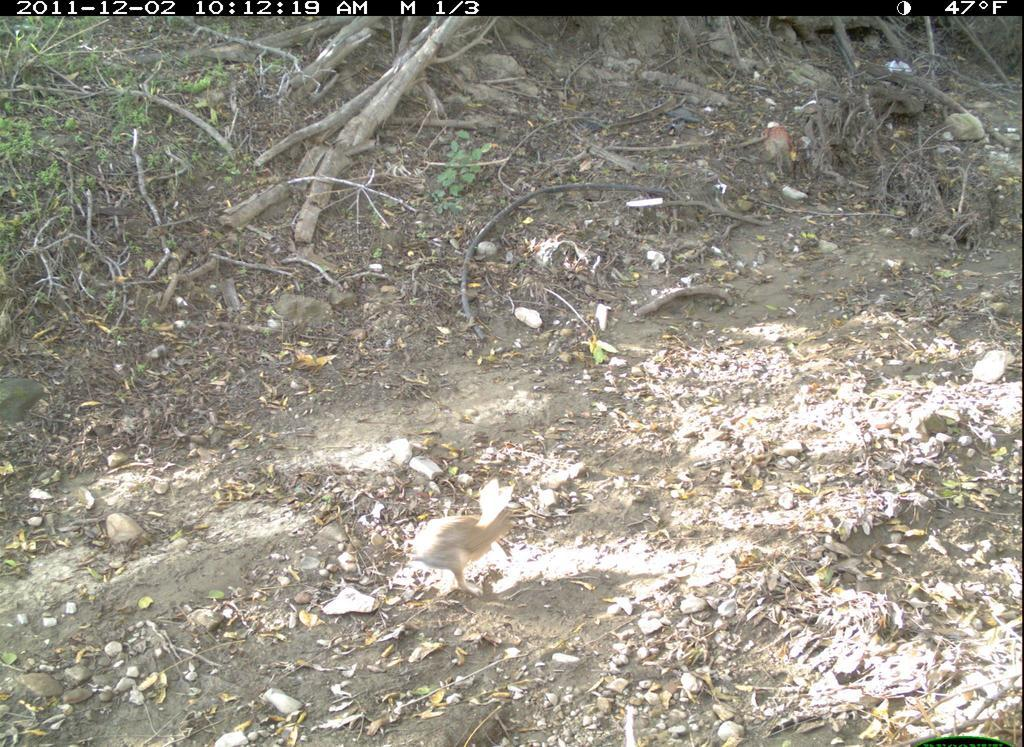rabbit: (404, 475, 525, 601)
